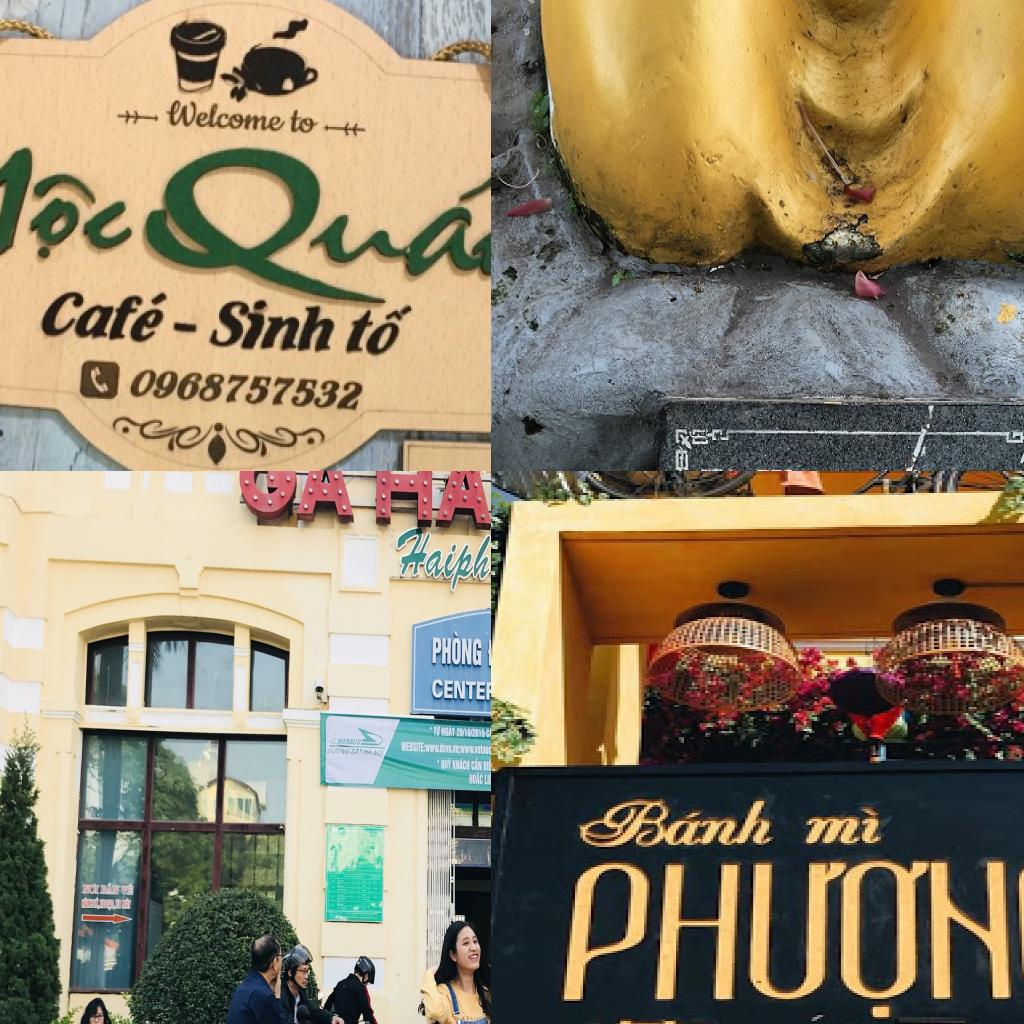text: (553, 857, 1024, 1024), (131, 134, 491, 325), (0, 123, 142, 277), (567, 797, 798, 853), (129, 364, 368, 415), (32, 274, 177, 348), (203, 288, 347, 358), (395, 526, 491, 600), (376, 471, 491, 524), (237, 471, 354, 517), (163, 95, 289, 137), (339, 303, 422, 364), (801, 805, 905, 851), (900, 445, 1024, 471), (432, 630, 482, 667), (431, 677, 491, 701), (288, 106, 323, 138), (426, 742, 460, 756), (460, 742, 491, 757), (400, 741, 426, 753), (99, 882, 121, 896), (456, 728, 486, 738), (468, 772, 484, 788), (436, 757, 452, 772), (452, 758, 470, 771), (82, 882, 100, 895), (440, 724, 456, 738), (326, 747, 351, 755), (121, 882, 134, 896), (337, 738, 362, 745), (81, 896, 94, 909), (429, 724, 441, 738), (472, 756, 482, 772), (371, 748, 386, 758), (462, 1014, 478, 1022), (350, 747, 364, 756), (482, 757, 491, 771), (122, 898, 132, 910), (483, 772, 491, 786), (92, 896, 100, 910), (362, 748, 374, 756), (106, 899, 114, 911), (114, 900, 122, 910), (100, 898, 106, 909), (486, 726, 491, 739)
